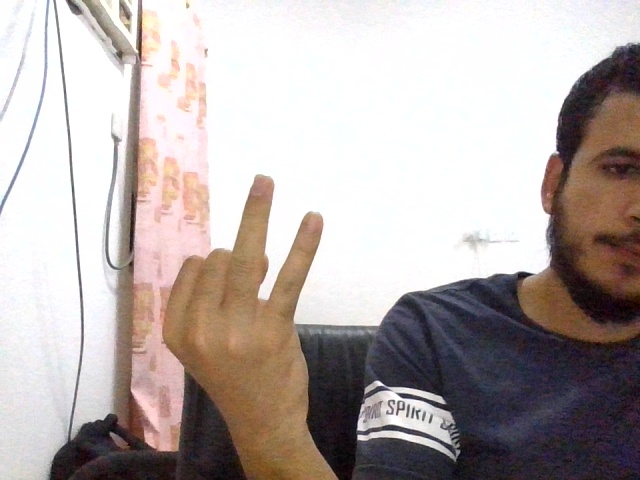Two: (161, 173, 324, 412)
